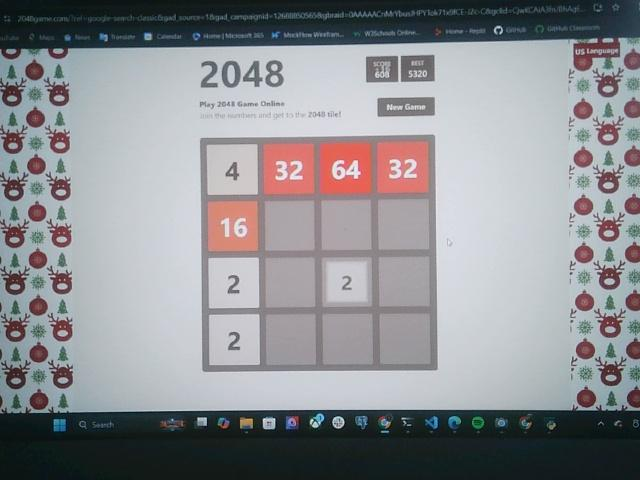board: (202, 136, 437, 371)
tile: (206, 256, 259, 309), (209, 314, 260, 367), (376, 143, 429, 193), (321, 143, 372, 194), (265, 143, 315, 195), (208, 145, 258, 196), (208, 202, 258, 251), (324, 257, 373, 306)
